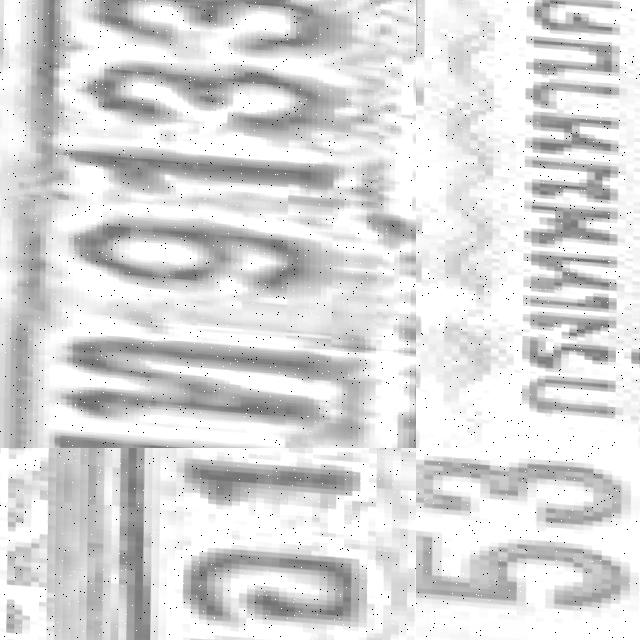license-plate: (0, 0, 416, 448), (416, 0, 640, 448), (78, 448, 416, 640), (416, 448, 640, 640)
